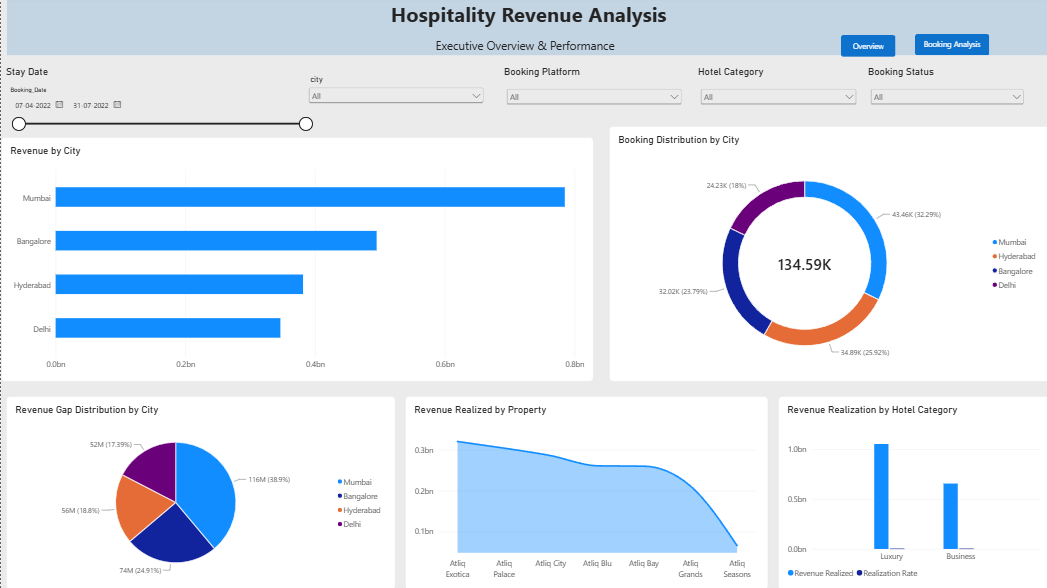

Layout of this report page (visuals, bound fields, positions):
{"tool":"powerbi","page":{"name":"Page 3","canvas":[1920,1080],"ordinal":2},"visuals":[{"type":"clusteredBarChart","title":"Revenue by City","fields":{"Category":["hospitality_powerbi_data.city"],"Y":["Sum(hospitality_powerbi_data.revenue_generated)"]},"box":[0,250,1085,447.5],"z":0},{"type":"donutChart","title":"Booking Distribution by City","fields":{"Category":["hospitality_powerbi_data.city"],"Y":["CountNonNull(hospitality_powerbi_data.booking_id)"]},"box":[1112.5,230,807.5,467.5],"z":1000},{"type":"clusteredColumnChart","title":"Revenue Realization by Hotel Category","fields":{"Category":["hospitality_powerbi_data.hotel_category"],"Y":["hospitality_powerbi_data.Revenue Realized","hospitality_powerbi_data.Realization Rate"]},"box":[1422.5,725,497.5,355],"z":2000},{"type":"pieChart","title":"Revenue Gap Distribution by City","fields":{"Category":["hospitality_powerbi_data.city"],"Y":["hospitality_powerbi_data.Revenue Gap"]},"box":[10,725,712.5,355],"z":3000},{"type":"stackedAreaChart","title":"Revenue Realized by Property","fields":{"Category":["hospitality_powerbi_data.property_name"],"Y":["hospitality_powerbi_data.Revenue Realized"]},"box":[740,725,665,355],"z":4000},{"type":"textbox","box":[10.3,0,1909.7,101.2],"z":10000},{"type":"textbox","box":[235,67.5,1450,32.5],"z":11000},{"type":"slicer","title":"Stay Date","fields":{"Values":["hospitality_powerbi_data.booking_date"]},"box":[10,120,565,130],"z":12000},{"type":"slicer","title":"Hotel Category","fields":{"Values":["hospitality_powerbi_data.hotel_category"]},"box":[1275,120,295,130],"z":13000},{"type":"slicer","title":"Booking Platform","fields":{"Values":["hospitality_powerbi_data.booking_platform"]},"box":[920,120,330,130],"z":14000},{"type":"slicer","fields":{"Values":["hospitality_powerbi_data.city"]},"box":[557.5,137.5,330,92.5],"z":15000},{"type":"slicer","title":"Booking Status","fields":{"Values":["hospitality_powerbi_data.booking_status"]},"box":[1587.5,120,290,130],"z":16000},{"type":"actionButton","box":[1538.1,64,100,40],"z":16001},{"type":"actionButton","box":[1672.3,61.9,136.3,39.2],"z":16002}]}

Visuals, with their boxes in screenshot pixels (x1, y1, x2, y2), scaled from the page's 1920x1080 canvas onto the 1047x588 screenshot:
"Revenue by City" clusteredBarChart: (left=0, top=136, right=592, bottom=380)
"Booking Distribution by City" donutChart: (left=607, top=125, right=1046, bottom=380)
"Revenue Realization by Hotel Category" clusteredColumnChart: (left=776, top=395, right=1046, bottom=587)
"Revenue Gap Distribution by City" pieChart: (left=5, top=395, right=394, bottom=587)
"Revenue Realized by Property" stackedAreaChart: (left=404, top=395, right=766, bottom=587)
textbox: (left=6, top=0, right=1046, bottom=55)
textbox: (left=128, top=37, right=919, bottom=54)
"Stay Date" slicer: (left=5, top=65, right=314, bottom=136)
"Hotel Category" slicer: (left=695, top=65, right=856, bottom=136)
"Booking Platform" slicer: (left=502, top=65, right=682, bottom=136)
slicer - hospitality_powerbi_data.city: (left=304, top=75, right=484, bottom=125)
"Booking Status" slicer: (left=866, top=65, right=1024, bottom=136)
actionButton: (left=839, top=35, right=893, bottom=57)
actionButton: (left=912, top=34, right=986, bottom=55)
